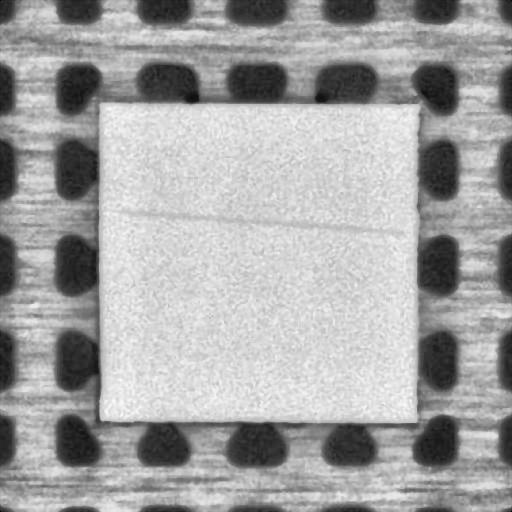DIE_CRACK: (119, 211, 400, 232)
